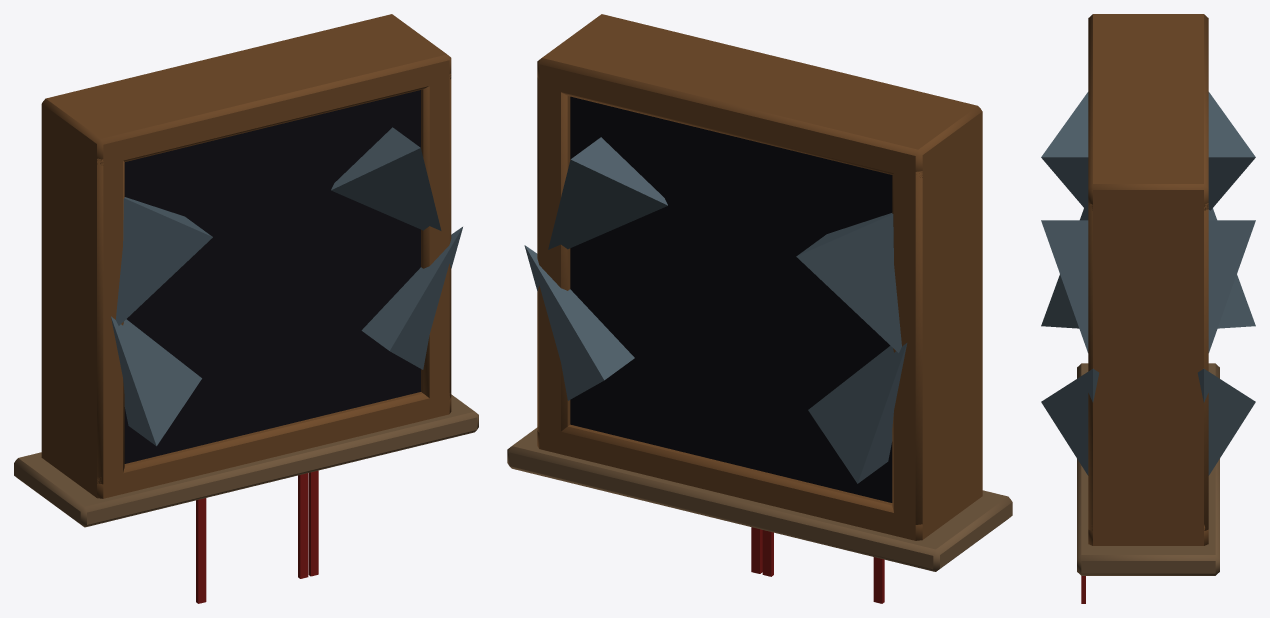
File: window_broken.glb
3 renders of one model, left to right at view 1: azimuth 30°, elevation 25°; view 2: azimuth 150°, elevation 25°; view 3: azimuth 270°, elevation 25°, orthographic. The views are drawn at different scales.
Parts seen in each view (by area): view 1: window_broken; view 2: window_broken; view 3: window_broken.
Boxes of the visible parts, x1,y1,x2,y2 form: window_broken: [14, 14, 478, 603]; window_broken: [507, 14, 1012, 603]; window_broken: [1041, 14, 1255, 603].
Bounding box in the file's own units: 2 × 2.32 × 0.9303.
